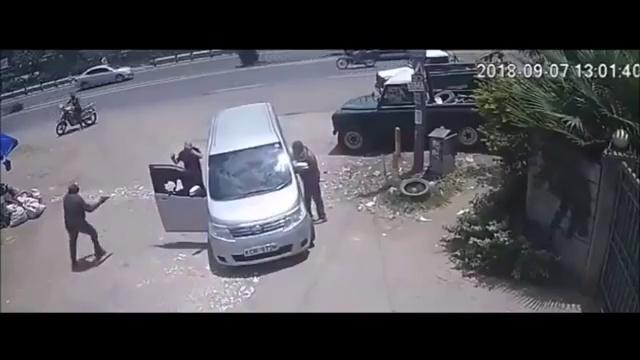weapon: (97, 193, 109, 203)
